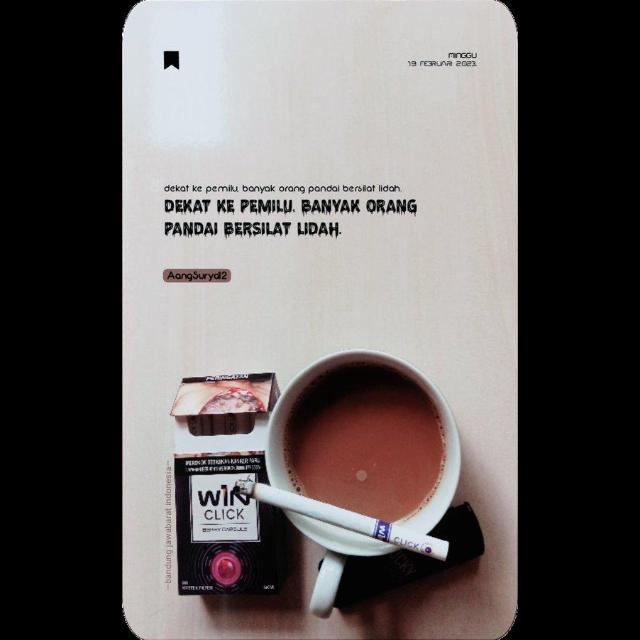rokok: (228, 474, 454, 570)
